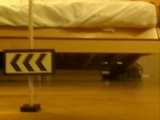left: (3, 49, 54, 74)
